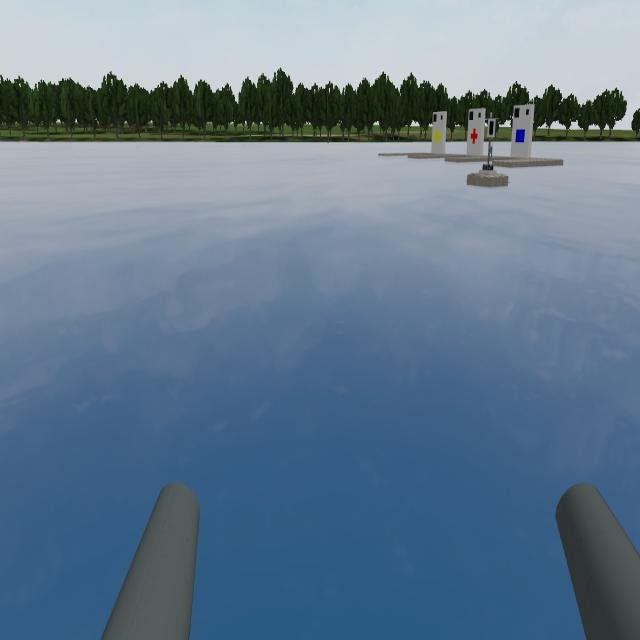black_pole: (481, 112, 504, 144)
